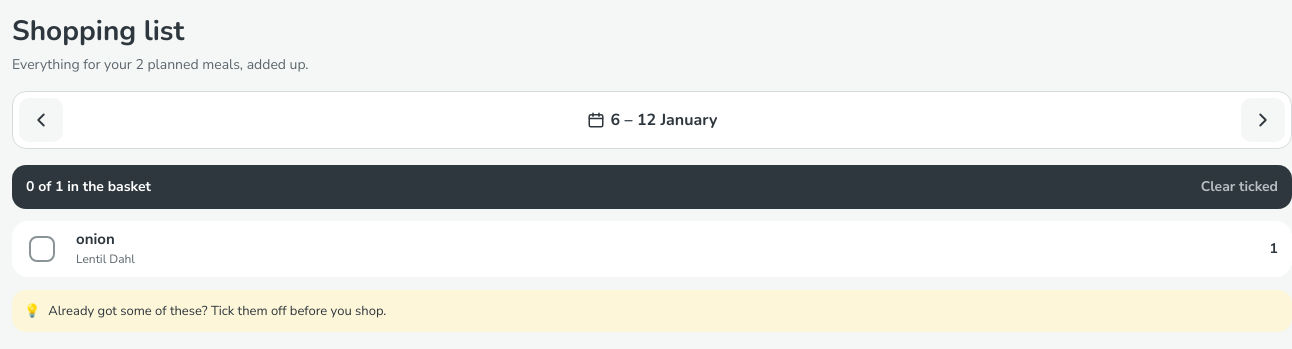
Scenario: ShoppingPage › ticks straight away and saves it
The width and height of the screenshot is (1292, 349).
Click the checkbox named "onion".
click(42, 249)  # box [20,227,64,271]
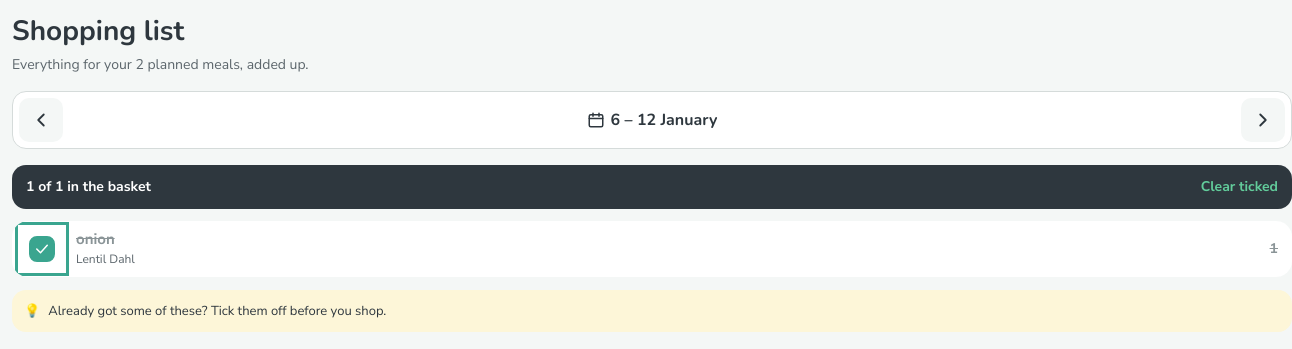
Expected: the checkbox named "onion" is checked, [20,227,64,271]
Expected: the text "1 of 1 in the basket" is shown, [26,177,151,197]
